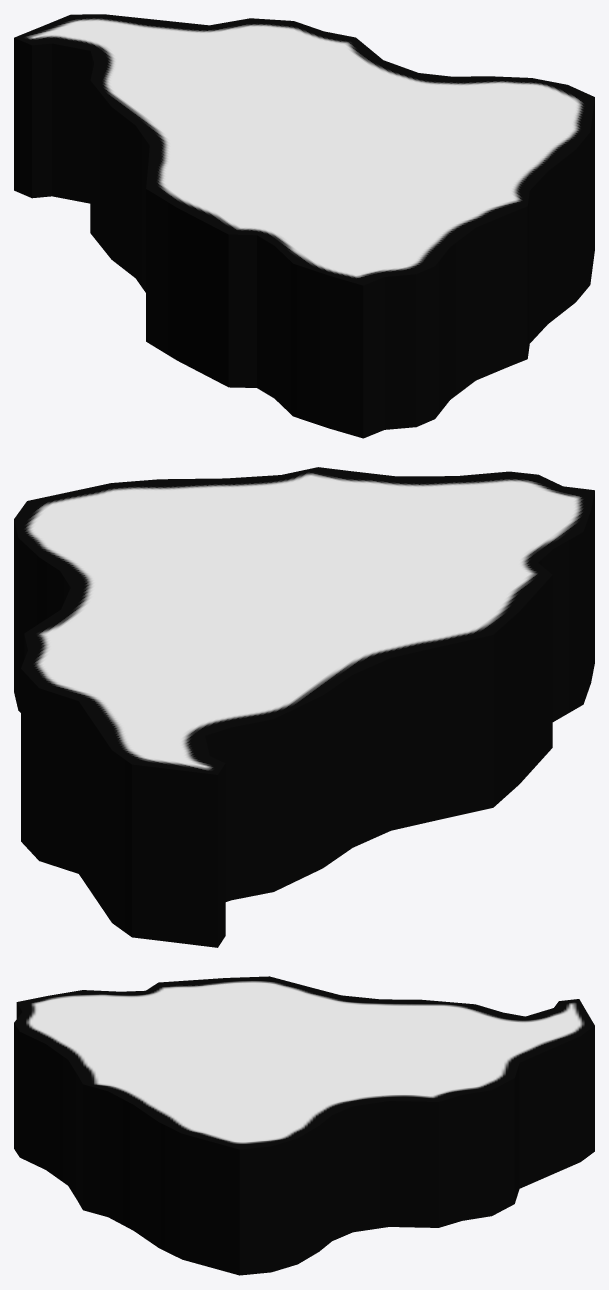
The picture shows the model from 3 angles, top to bottom: view 1: azimuth 30°, elevation 25°; view 2: azimuth 150°, elevation 25°; view 3: azimuth 270°, elevation 25°; orthographic projection. The views are drawn at different scales.
Visible parts, largest first — view 1: polySurface41; view 2: polySurface41; view 3: polySurface41.
Boxes of the visible parts, left/top/right/bottom form: polySurface41: left=14, top=14, right=594, bottom=438; polySurface41: left=14, top=467, right=594, bottom=947; polySurface41: left=14, top=976, right=594, bottom=1275.
Bounding box in the file's own units: 1.47 × 0.5 × 2.09.
